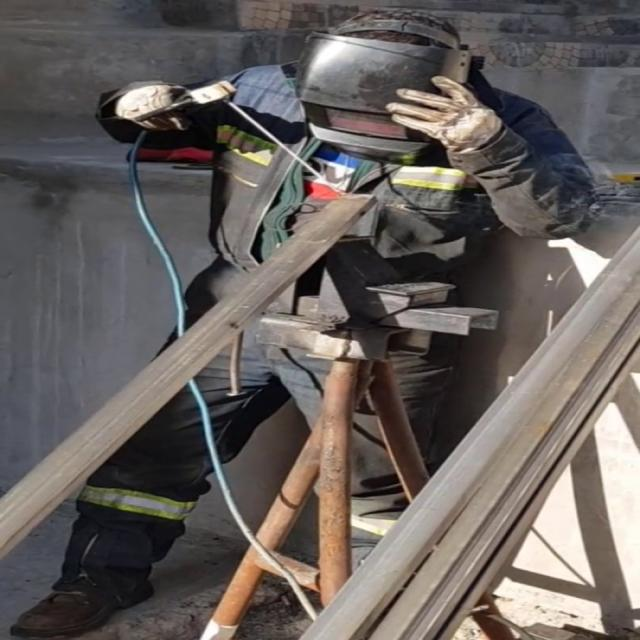gloved: (383, 75, 502, 152), (114, 83, 193, 131)
